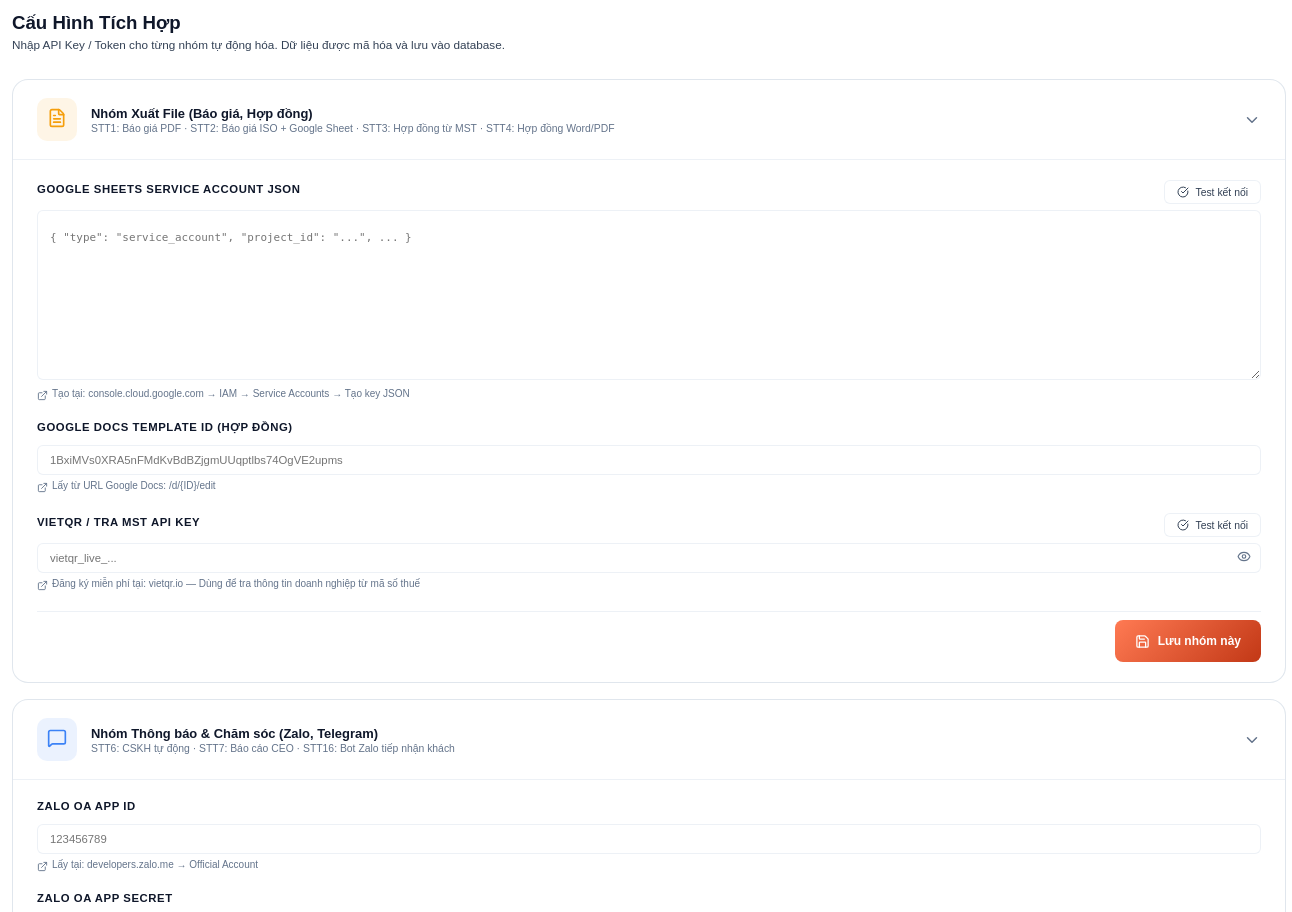
it: Settings › shows the server error detail when the test request itself fails
Click the button "Test kết nối" in the row of "Google Sheets Service Account JSON" at [1213, 192], box [1164, 180, 1261, 204]
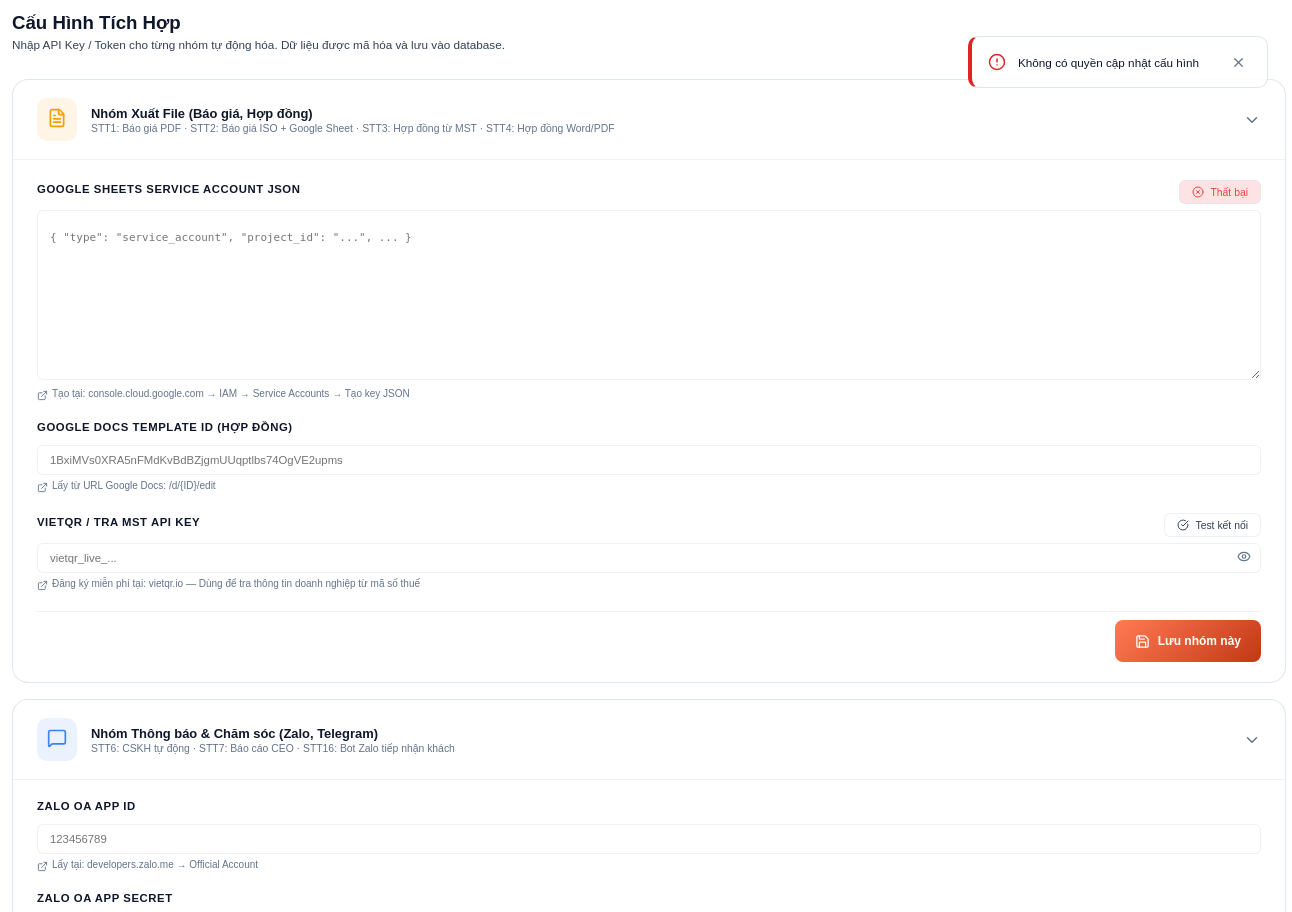
Now the text "Không có quyền cập nhật cấu hình" is shown, box [1018, 54, 1209, 70]
